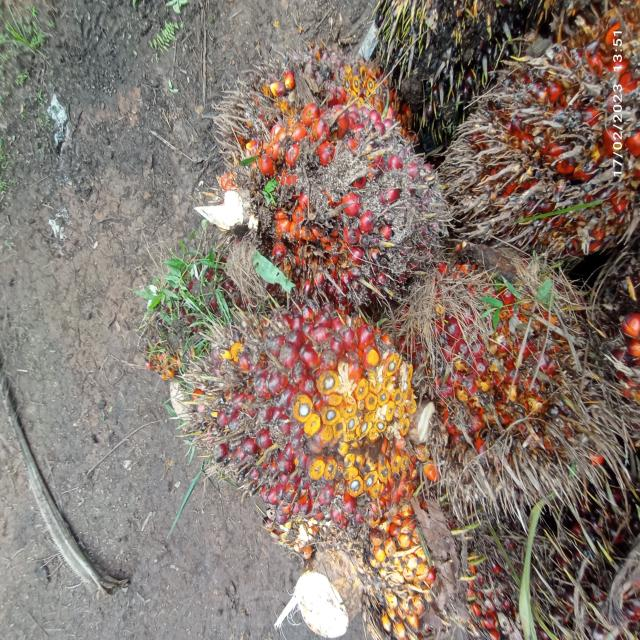fraksi 1: (385, 210, 595, 533)
fraksi 3: (162, 306, 458, 536), (197, 75, 467, 302)
fraksi 4: (462, 11, 640, 279)
